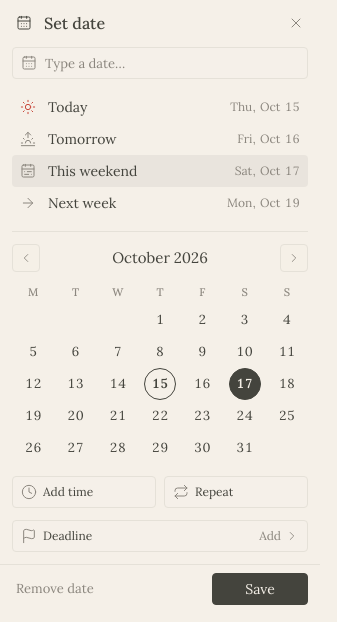
Test case: TaskDatePickerPanel › repeat screen › offers the weekly preset on the task weekday
The width and height of the screenshot is (337, 622).
Click the button "Repeat". click: (236, 492)
box: [164,476,308,508]
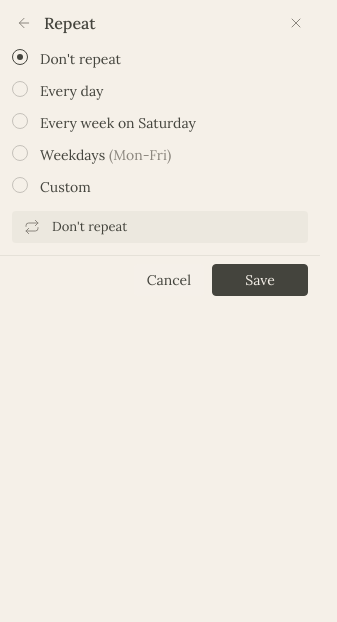
Expected: the radio button labelled "Every week on Saturday" is shown, [12,113,196,132]
Expected: the radio button labelled "Don't repeat" is checked, [12,49,121,68]
